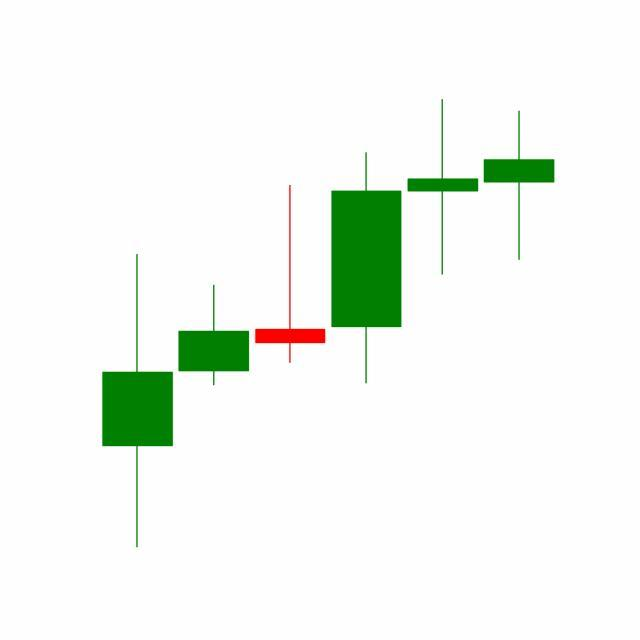Advance Block: (326, 99, 555, 389)
